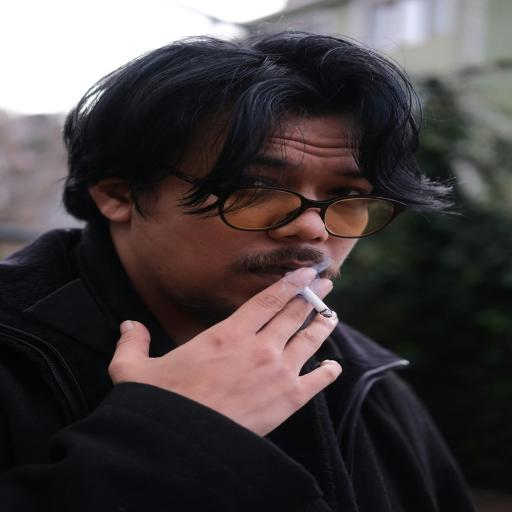terdeteksi merokok: (202, 146, 385, 329)
